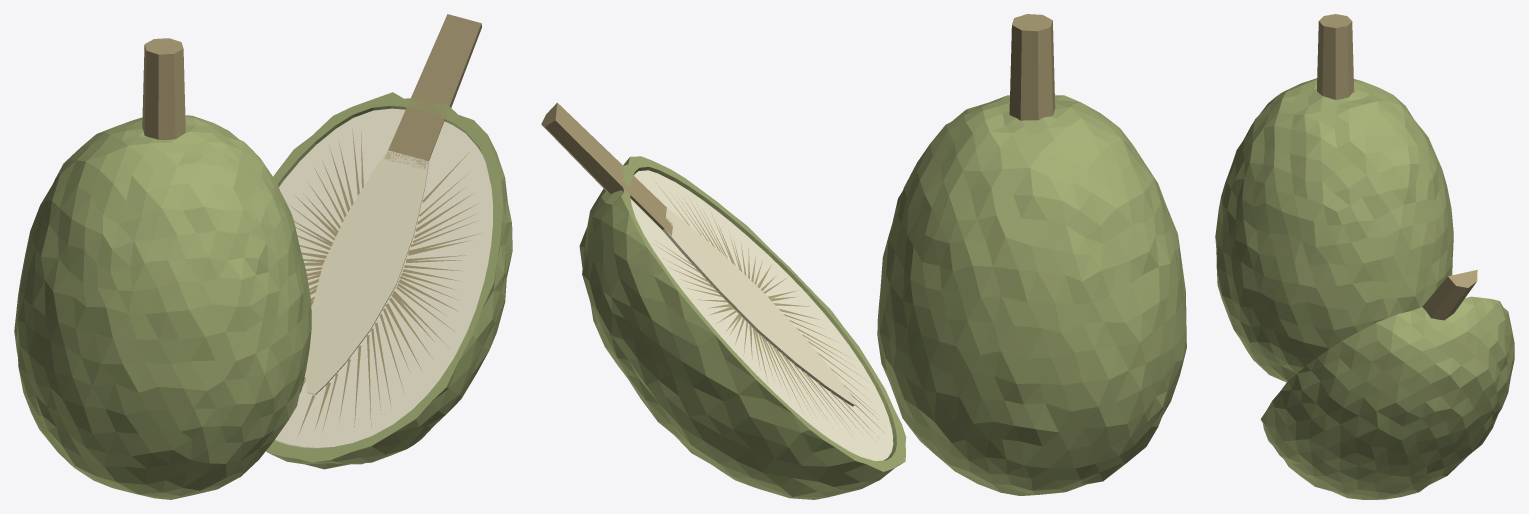
Rendered from fruta de pan.fbx.
The picture shows the model from 3 angles, left to right: view 1: azimuth 30°, elevation 25°; view 2: azimuth 150°, elevation 25°; view 3: azimuth 270°, elevation 25°; orthographic projection. The views are drawn at different scales.
Visible parts, largest first — view 1: Entera_Cascara, Mitad_Pulpa, Mitad_Nucleo, Mitad_Cascara, Mitad_Fibras, Mitad_Tallo, Entera_Tallo; view 2: Entera_Cascara, Mitad_Cascara, Mitad_Pulpa, Mitad_Nucleo, Entera_Tallo, Mitad_Fibras, Mitad_Tallo; view 3: Entera_Cascara, Mitad_Cascara, Entera_Tallo, Mitad_Tallo.
Boxes of the visible parts, x1,y1,x2,y2 form: Entera_Cascara: (14,115,311,499); Mitad_Pulpa: (275,108,493,448); Mitad_Nucleo: (305,150,428,394); Mitad_Cascara: (266,92,512,469); Mitad_Fibras: (287,128,481,435); Mitad_Tallo: (384,14,481,169); Entera_Tallo: (142,38,185,140); Entera_Cascara: (877,95,1186,495); Mitad_Cascara: (579,156,906,499); Mitad_Pulpa: (630,170,893,460); Mitad_Nucleo: (662,208,855,406); Entera_Tallo: (1009,14,1055,120); Mitad_Fibras: (654,180,884,441); Mitad_Tallo: (541,102,672,235); Entera_Cascara: (1215,78,1453,382); Mitad_Cascara: (1260,296,1514,499); Entera_Tallo: (1317,14,1354,99); Mitad_Tallo: (1422,270,1477,320).
Bounding box in the file's own units: 296 × 258 × 179.
